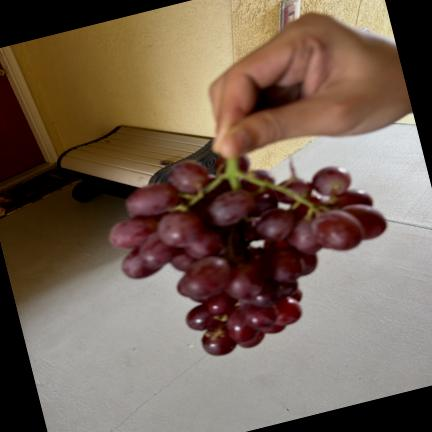grape_cluster: (109, 156, 386, 355)
